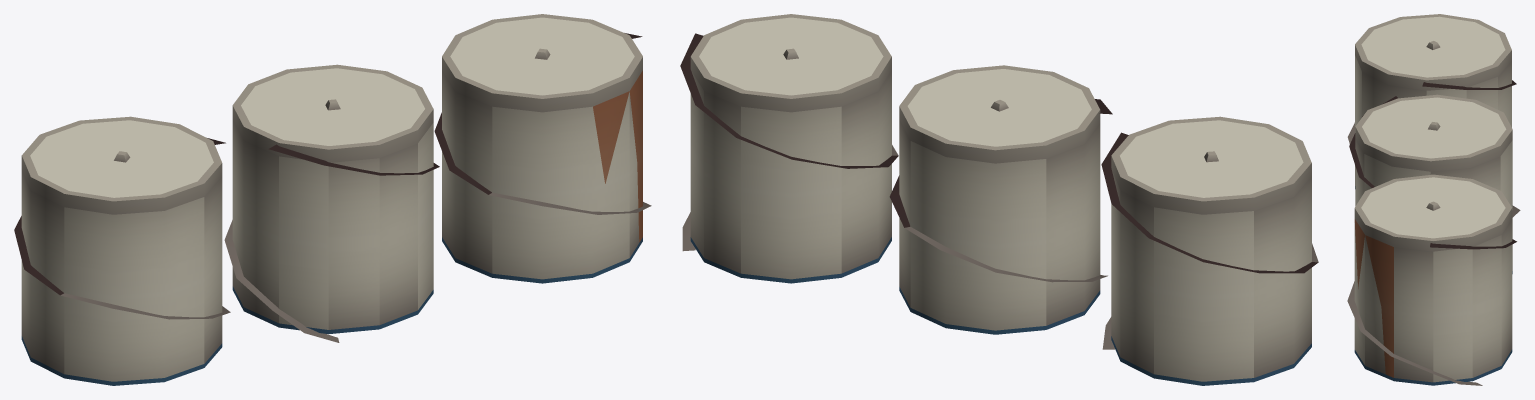
File: SM_Factory_Silo_01.fbx
3 views of the same model, side by side, from view 1: azimuth 30°, elevation 25°; view 2: azimuth 150°, elevation 25°; view 3: azimuth 270°, elevation 25° (orthographic). The views are drawn at different scales.
Visible parts, largest first — view 1: SM_Factory_Silo_01; view 2: SM_Factory_Silo_01; view 3: SM_Factory_Silo_01.
Part boxes in pixels (x1,y1,x2,y2): SM_Factory_Silo_01: [14, 14, 651, 385]; SM_Factory_Silo_01: [680, 14, 1318, 385]; SM_Factory_Silo_01: [1347, 14, 1520, 385].
Bounding box in the file's own units: 8.76 × 2.67 × 2.73.
